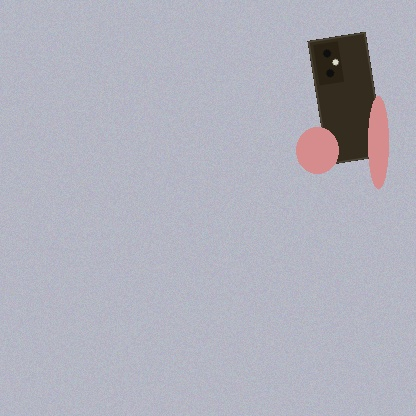cell_phone: (307, 32, 385, 165)
